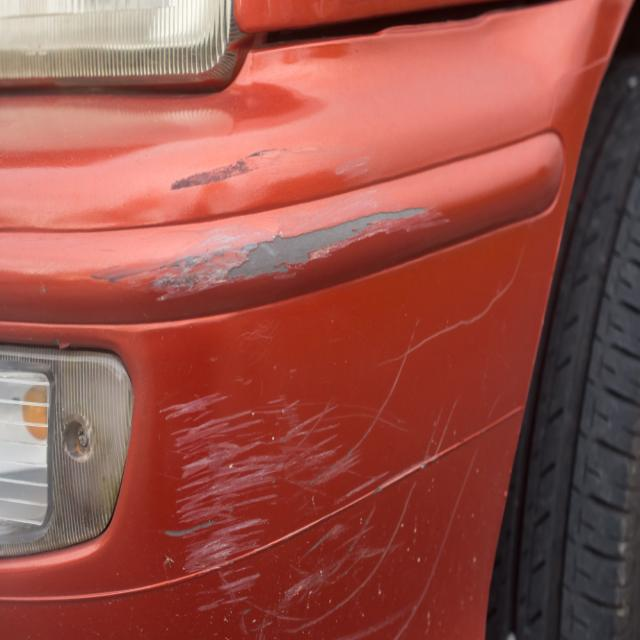scratch: (161, 270, 519, 640), (124, 139, 473, 312)
